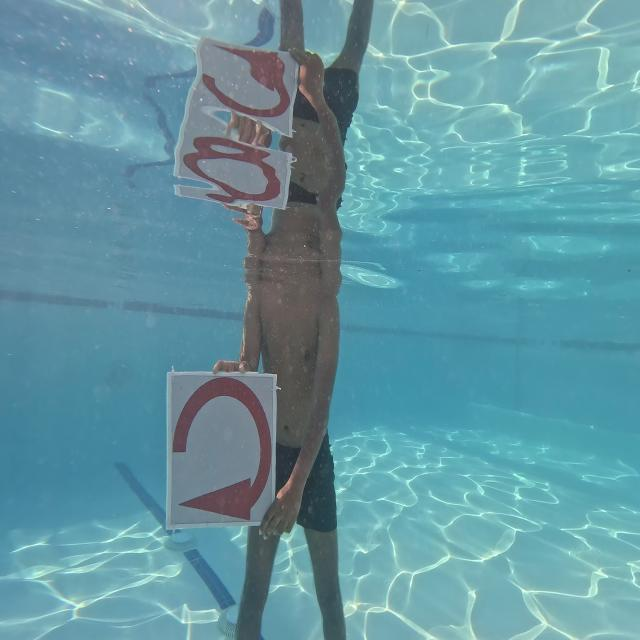red_side: (165, 365, 283, 529)
